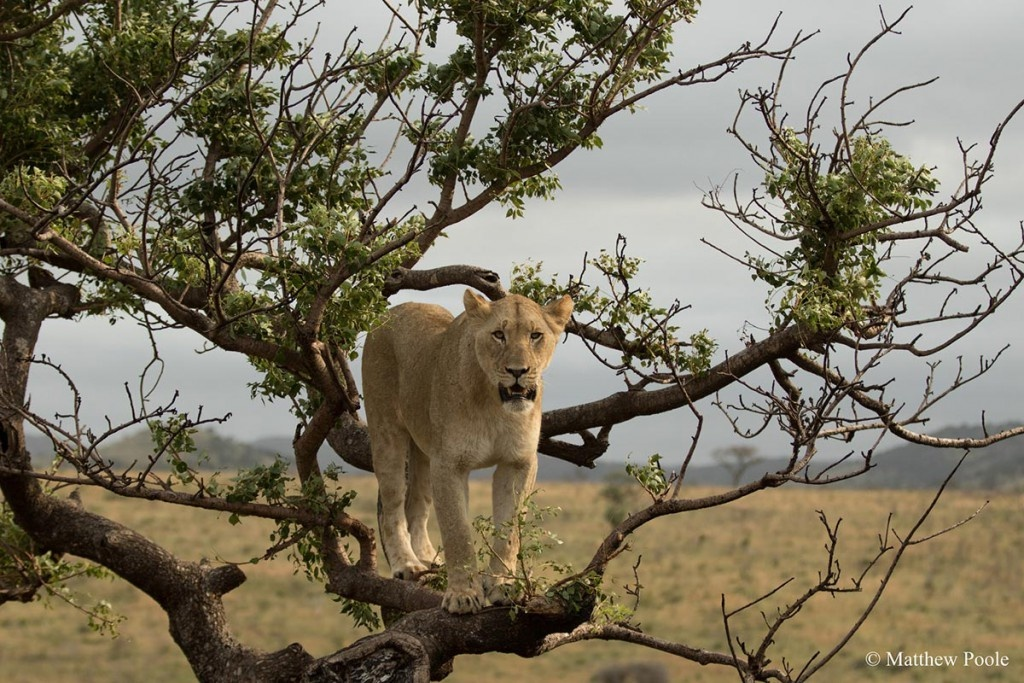lion: (350, 283, 581, 619)
